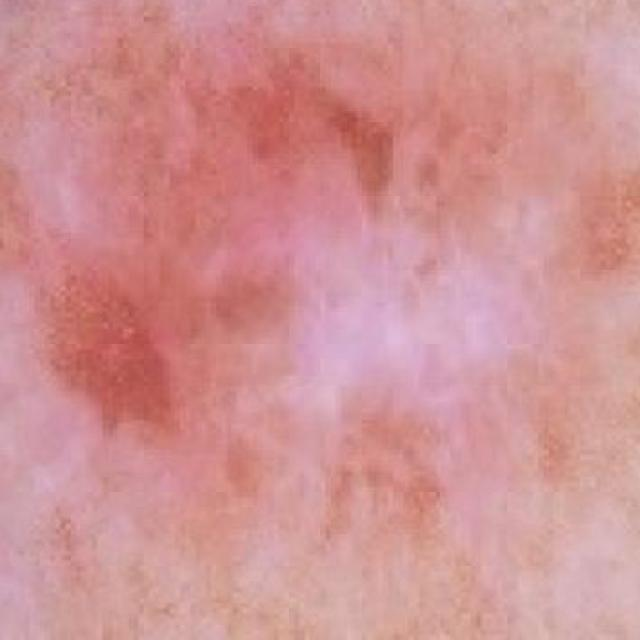DF: (27, 0, 638, 579)
